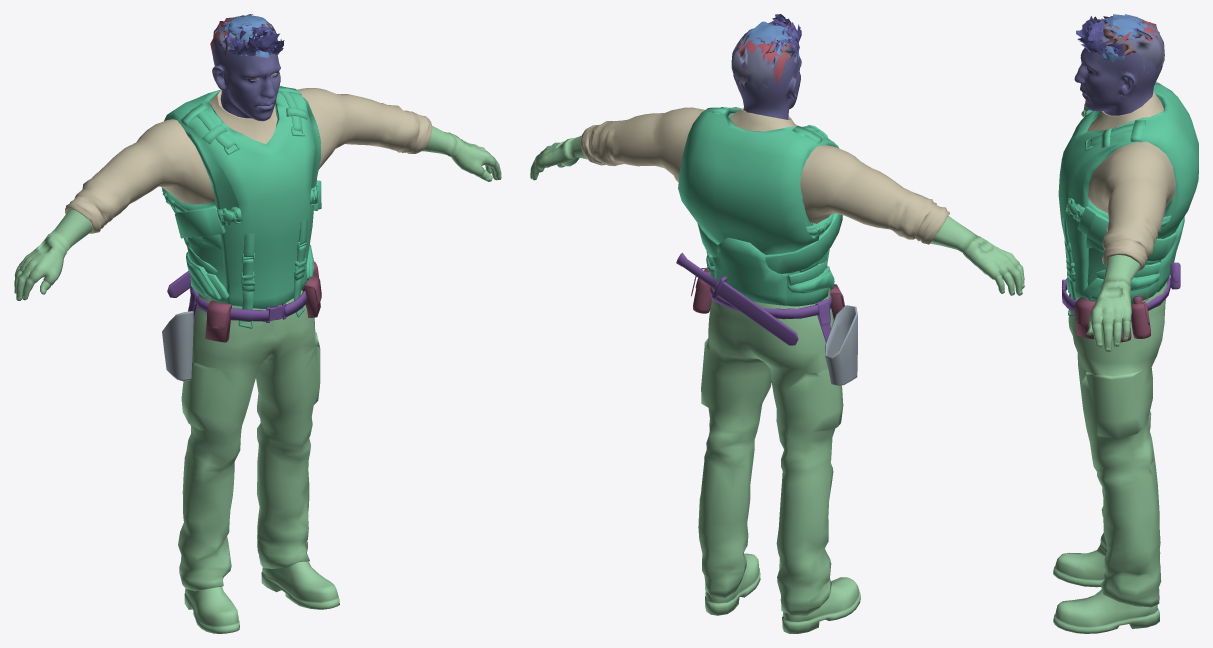
Rendered from punisher_vest.obj.
3 renders of one model, left to right at view 1: azimuth 30°, elevation 25°; view 2: azimuth 150°, elevation 25°; view 3: azimuth 270°, elevation 25°, orthographic.
Visible parts, largest first — view 1: survivor_biker_reference, survivor_biker_clothes, survivor_biker_tools, survivor_biker_hair; view 2: survivor_biker_reference, survivor_biker_clothes, survivor_biker_tools, survivor_biker_hair; view 3: survivor_biker_reference, survivor_biker_clothes, survivor_biker_hair, survivor_biker_tools.
Boxes of the visible parts, x1,y1,x2,y2 form: survivor_biker_reference: (14,16,501,633); survivor_biker_clothes: (65,86,432,381); survivor_biker_tools: (167,258,321,342); survivor_biker_hair: (210,14,284,62); survivor_biker_reference: (530,37,1024,633); survivor_biker_clothes: (580,107,949,385); survivor_biker_tools: (676,252,844,345); survivor_biker_hair: (731,14,801,91); survivor_biker_reference: (1053,22,1167,633); survivor_biker_clothes: (1058,81,1198,317); survivor_biker_hair: (1076,14,1164,73); survivor_biker_tools: (1062,262,1180,342).
Bounding box in the file's own units: 68.22 × 78.13 × 17.65.
